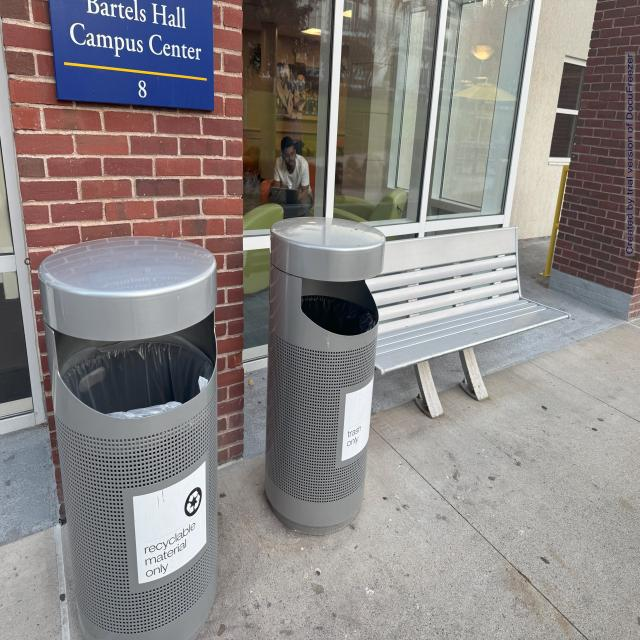Trash bin: (38, 232, 238, 640), (262, 211, 378, 575)
chair: (377, 216, 583, 387)
